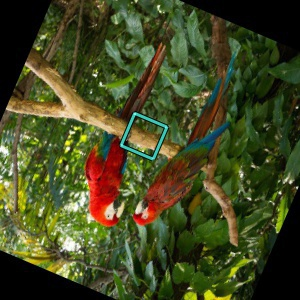square: (119, 111, 169, 162)
